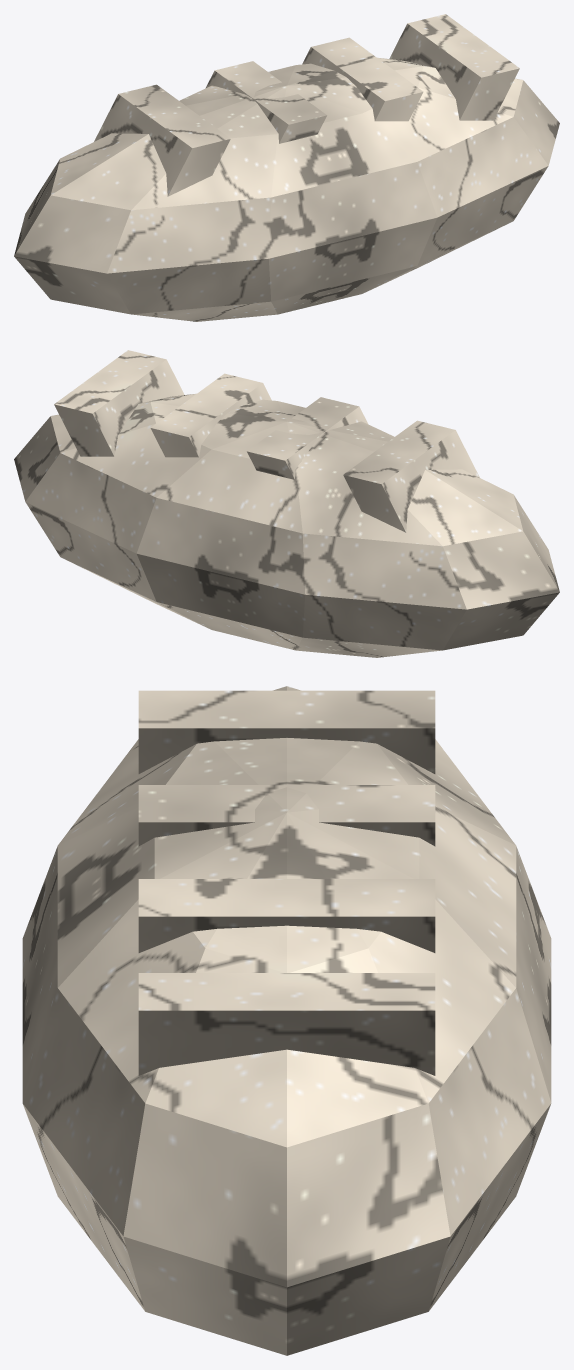
Rendered from pane_forno.obj.
3 renders of one model, top to bottom at view 1: azimuth 30°, elevation 25°; view 2: azimuth 150°, elevation 25°; view 3: azimuth 270°, elevation 25°, orthographic. The views are drawn at different scales.
Visible parts, largest first — view 1: pane_forno; view 2: pane_forno; view 3: pane_forno.
Part boxes in pixels (x1,y1,x2,y2): pane_forno: [14, 14, 559, 321]; pane_forno: [14, 350, 559, 657]; pane_forno: [22, 686, 551, 1355].
Size of the model in its own units: 0.34 by 0.124 by 0.1426.
Materials: 2 (2 with a texture image).
